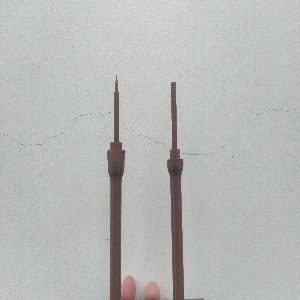obeng: (166, 80, 185, 300)
solder: (106, 73, 126, 300)
